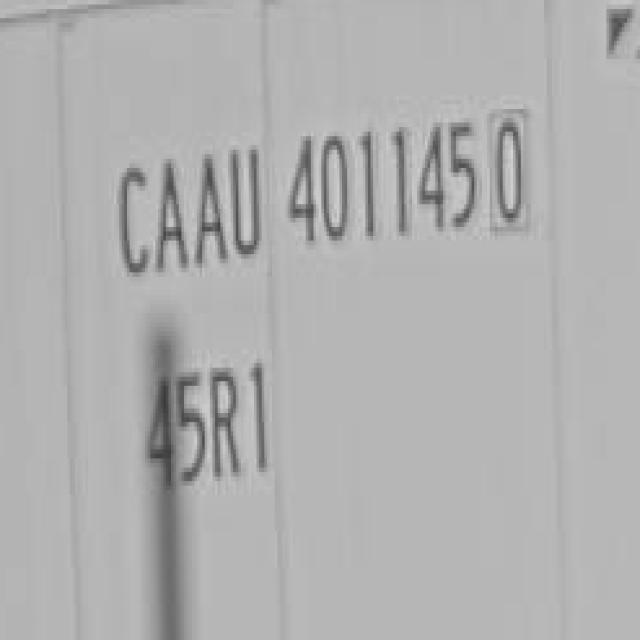dv: (485, 94, 532, 241)
owner: (115, 122, 265, 290)
serial: (288, 96, 479, 262)
size: (136, 338, 282, 494)
